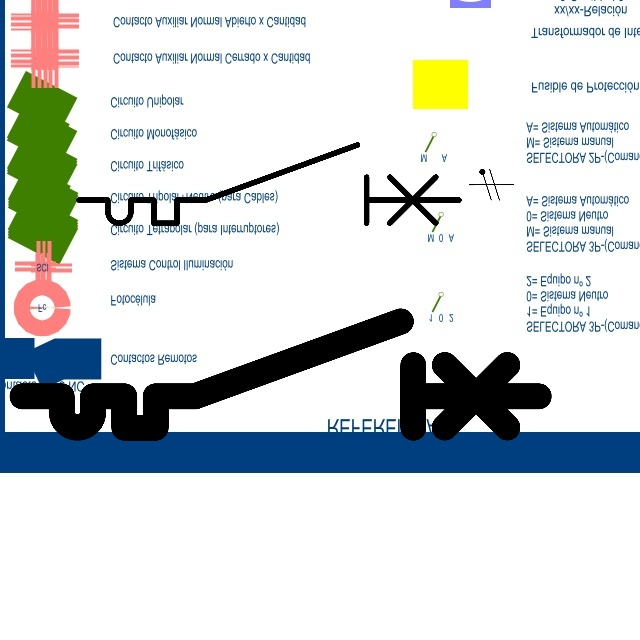interruptor_termomagnetico: (9, 308, 552, 441), (69, 135, 469, 233)
